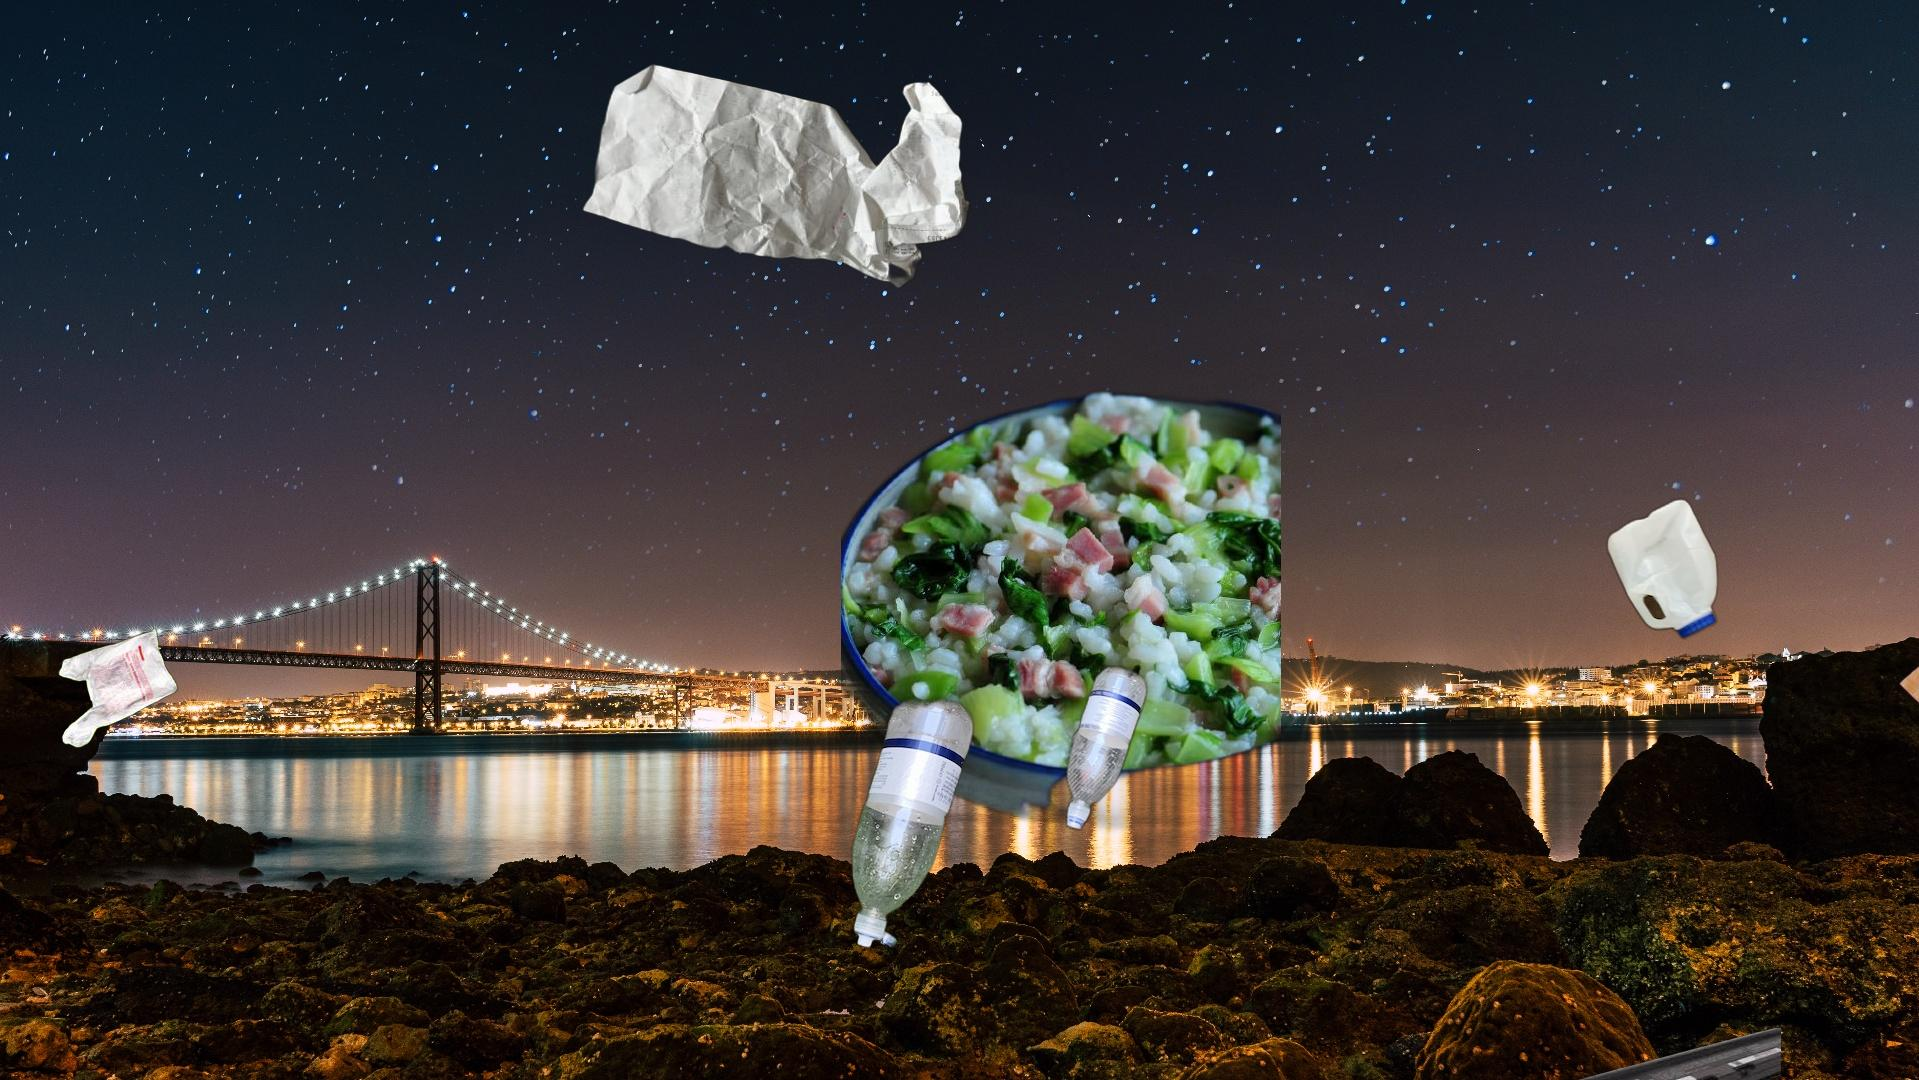battery: (1557, 1025, 1781, 1080)
biological: (841, 382, 1281, 841)
clothes: (1897, 574, 1919, 935)
paper: (575, 63, 974, 291)
plastic-bag: (55, 626, 181, 750)
plastic-bottles: (847, 692, 978, 953), (1601, 493, 1723, 645), (1061, 659, 1151, 836)
